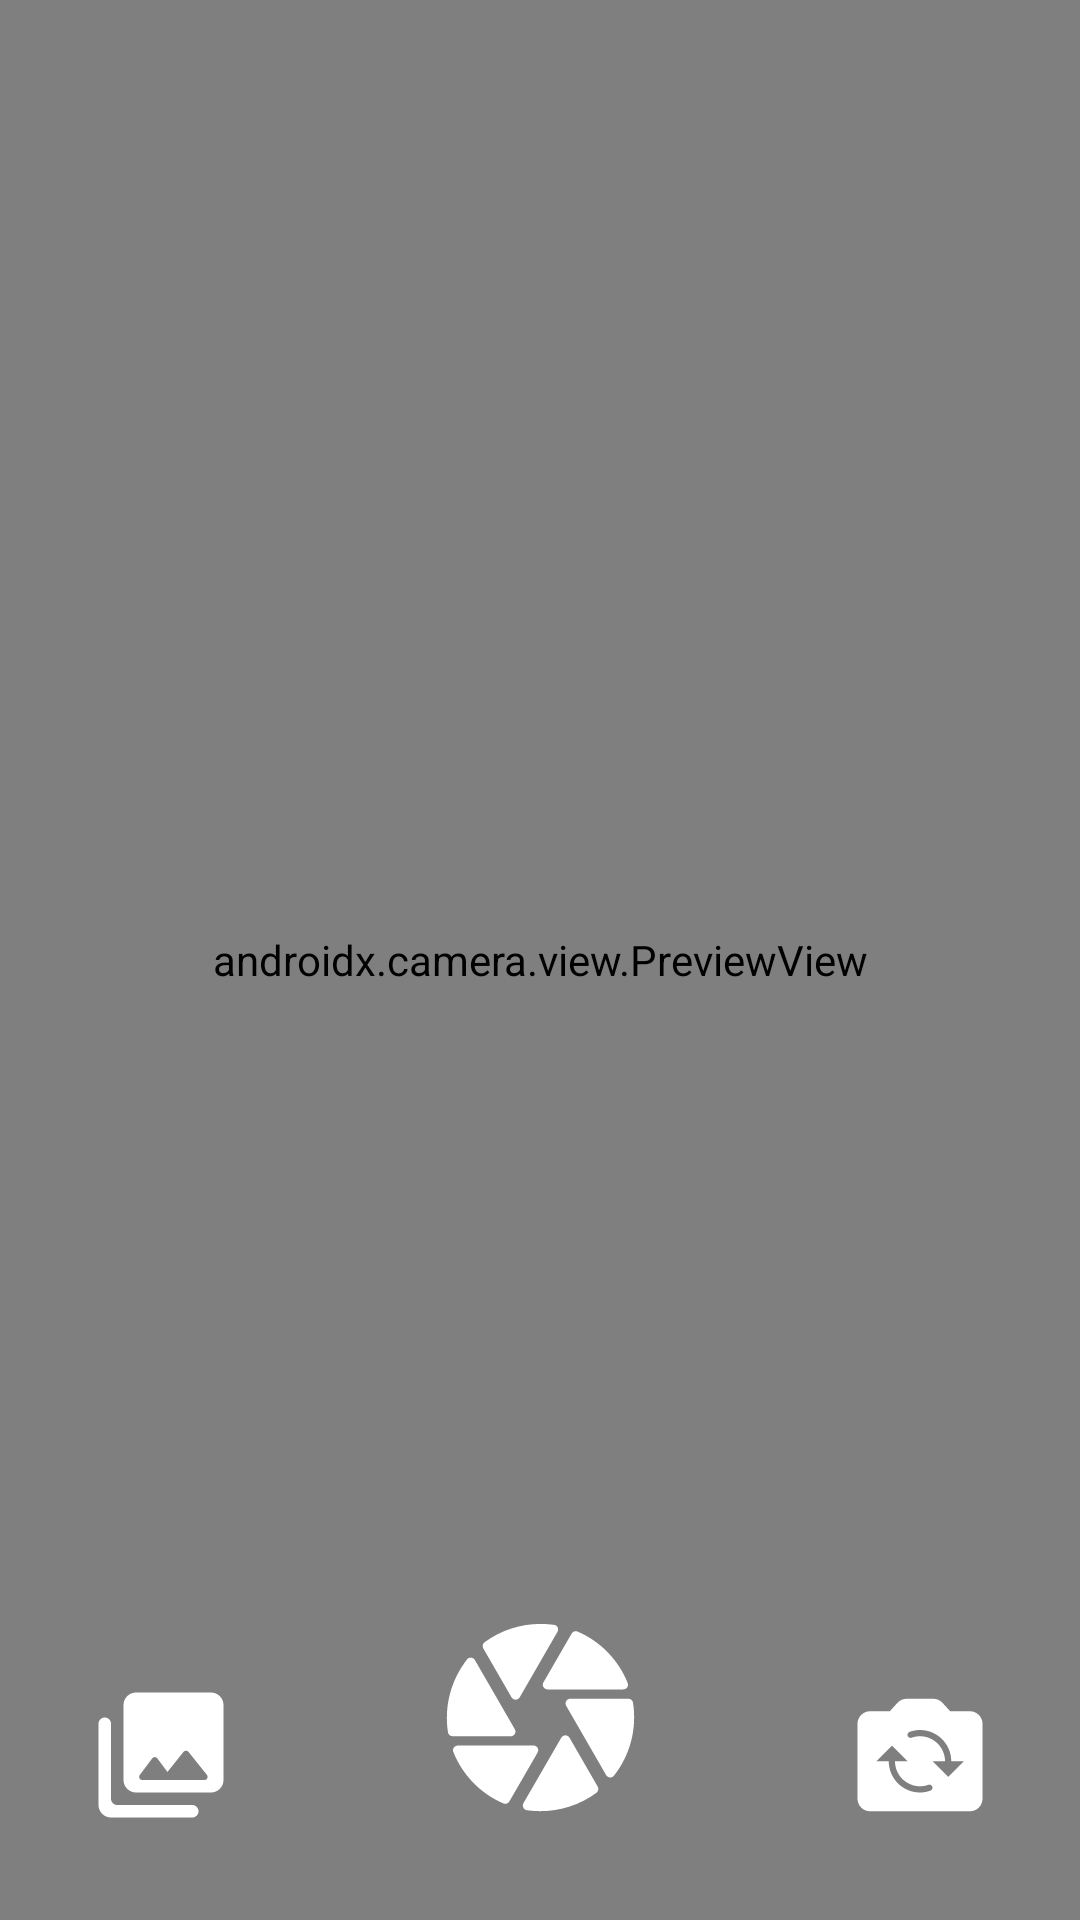

Where icons sit on this 1080×1920 app screen, as (x1, y1, x2, y2):
flip camera: (857, 1698, 983, 1812)
gallery: (98, 1692, 224, 1818)
take photo: (446, 1624, 635, 1812)
